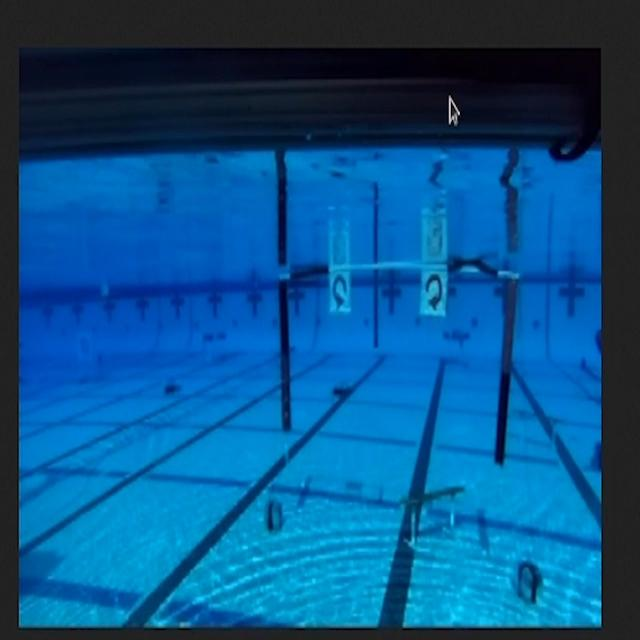Gate: (265, 246, 528, 478)
Path: (388, 468, 480, 562)
